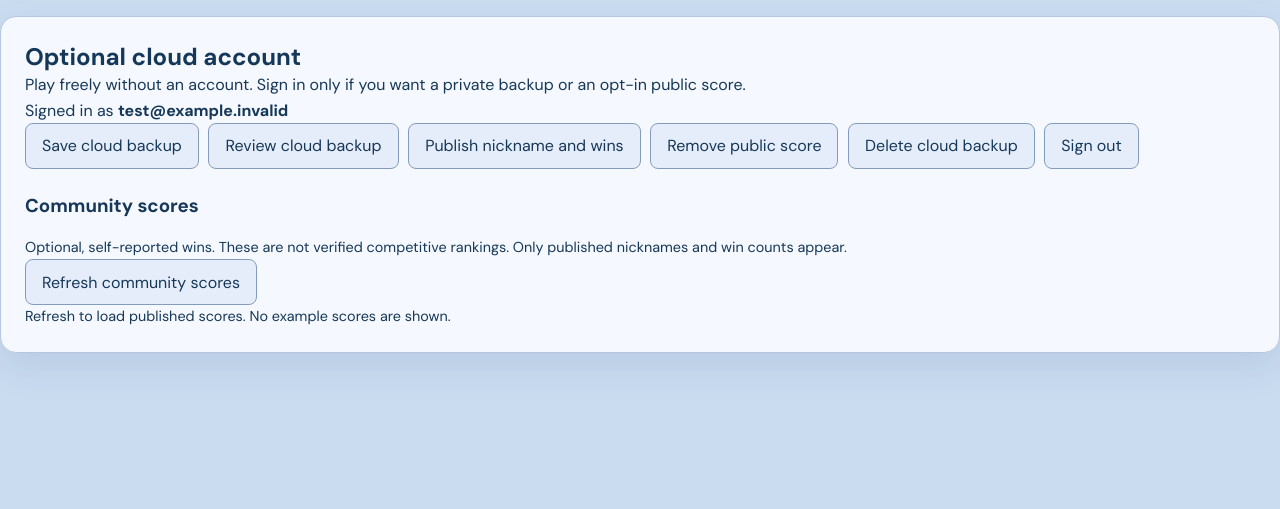
optional cloud panel › preserves the storage failure warning on restore
The image size is (1280, 509).
Click the button "Review cloud backup" at point(303, 146), box [208, 123, 398, 169]
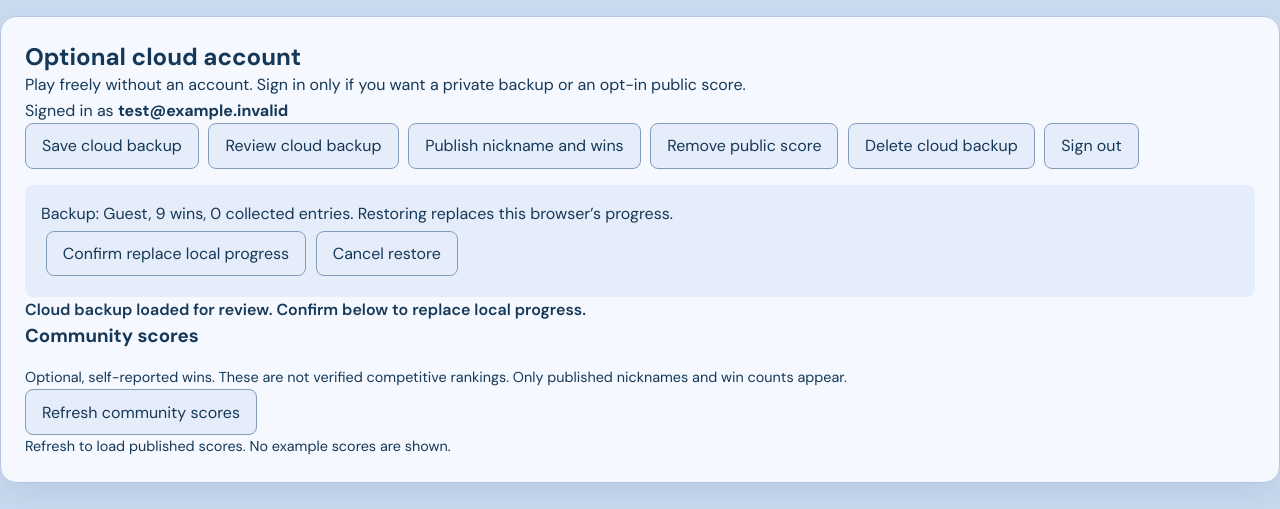
Click the button "Confirm replace local progress" at point(176, 254), box [46, 231, 306, 276]
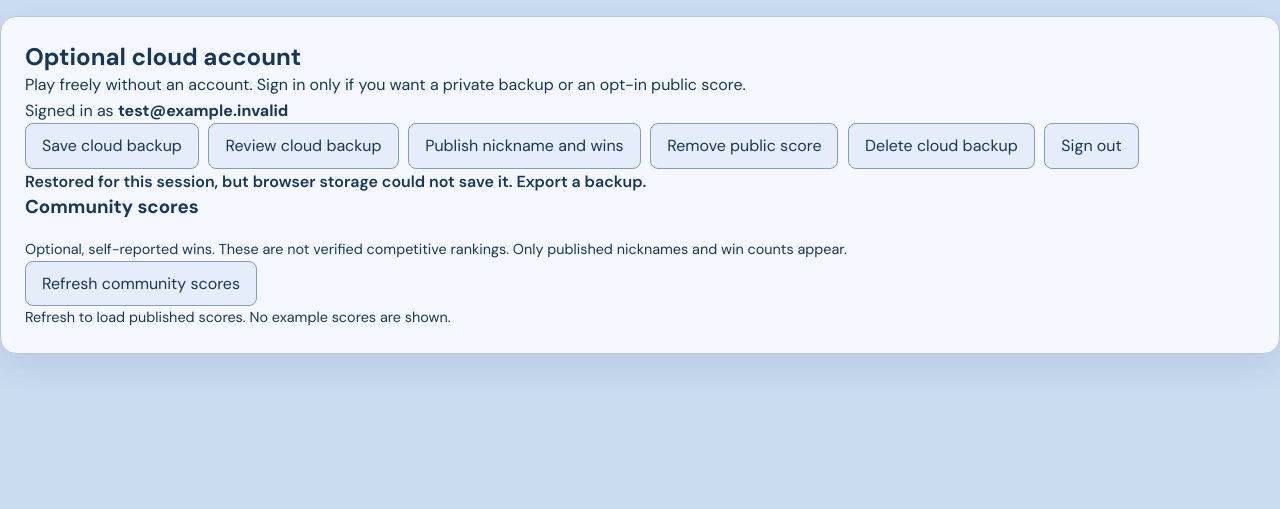
expect the message shows "browser storage could not save it": met, box [25, 171, 646, 192]
